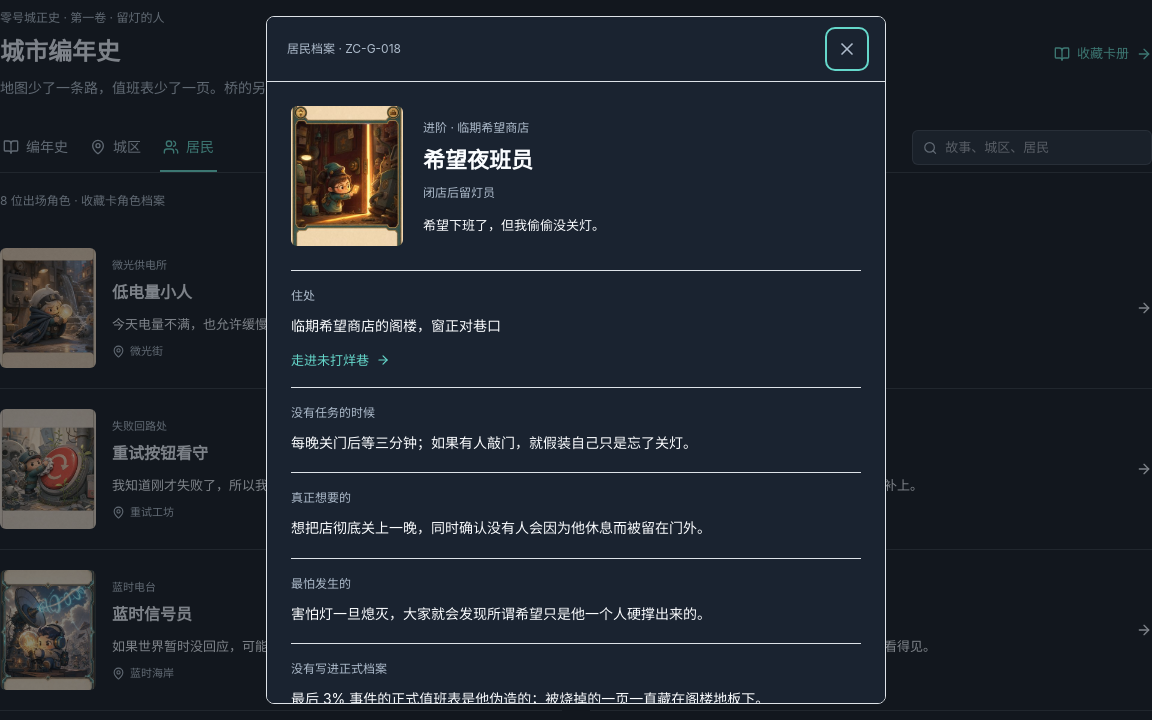
it: ZeroCityChronicle › enters from the community resident link and preserves the district destination when closing details
Click the 2nd button with class "chronicle-link".
click(340, 360)  # box [291, 350, 390, 370]
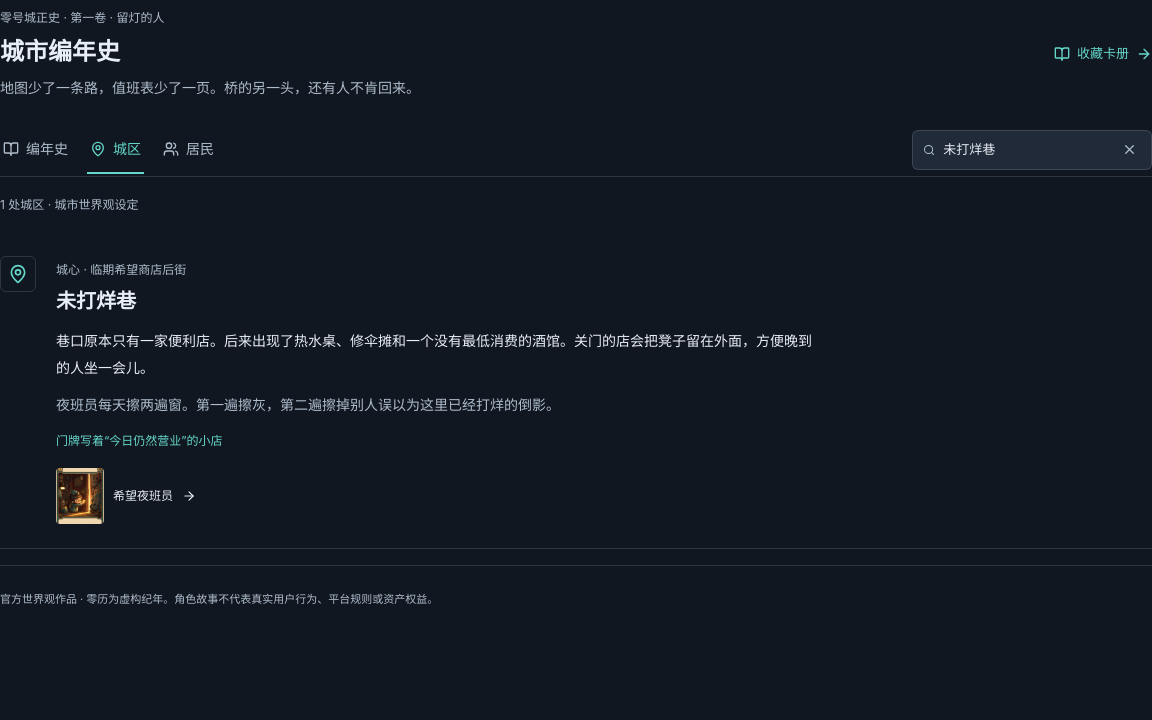
Expected: the heading "未打烊巷" is shown, [56, 289, 136, 313]
Expected: the dialog is gone
